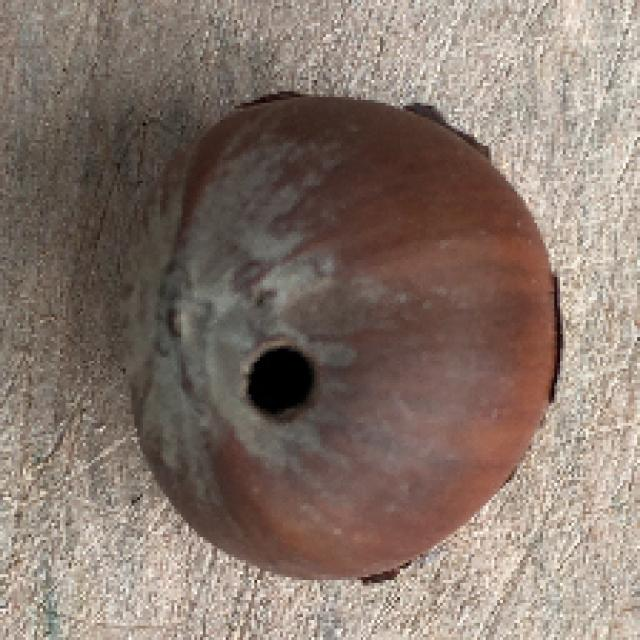damagedHazelnut: (108, 88, 560, 582)
